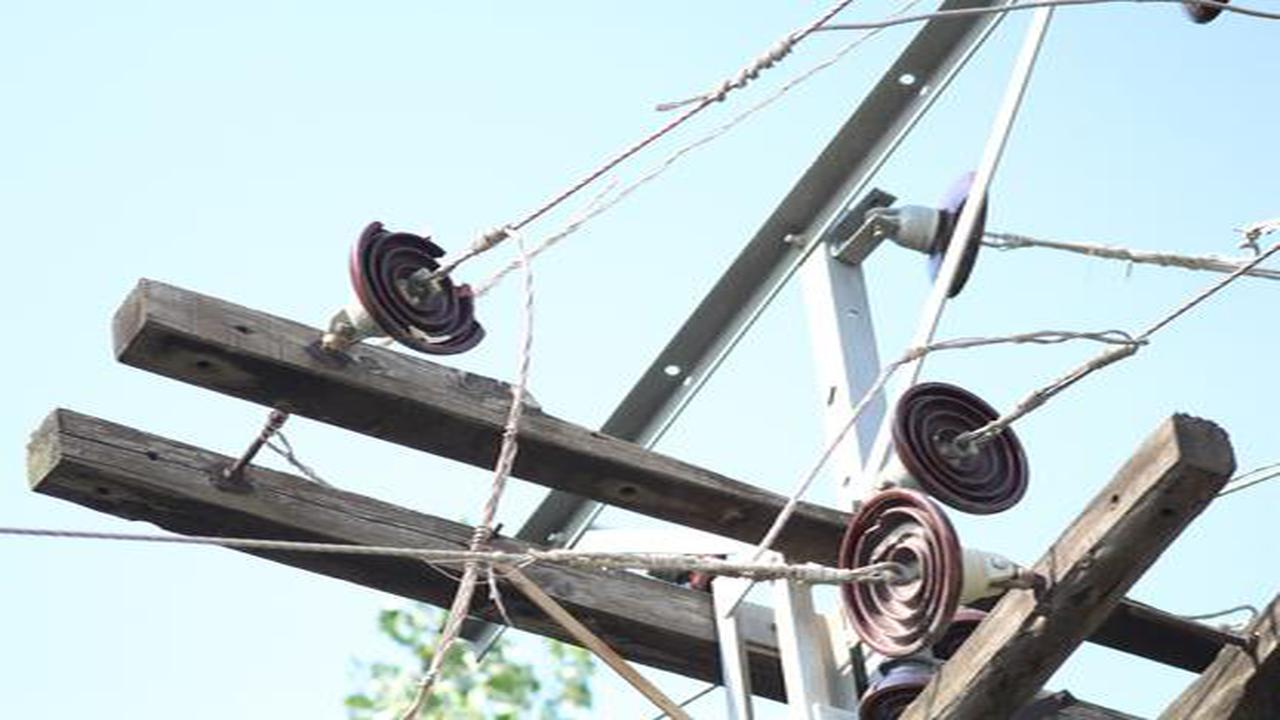defect_disc: (323, 209, 495, 370)
insulator_disc: (823, 483, 972, 665), (886, 375, 1041, 522), (884, 169, 996, 301)
